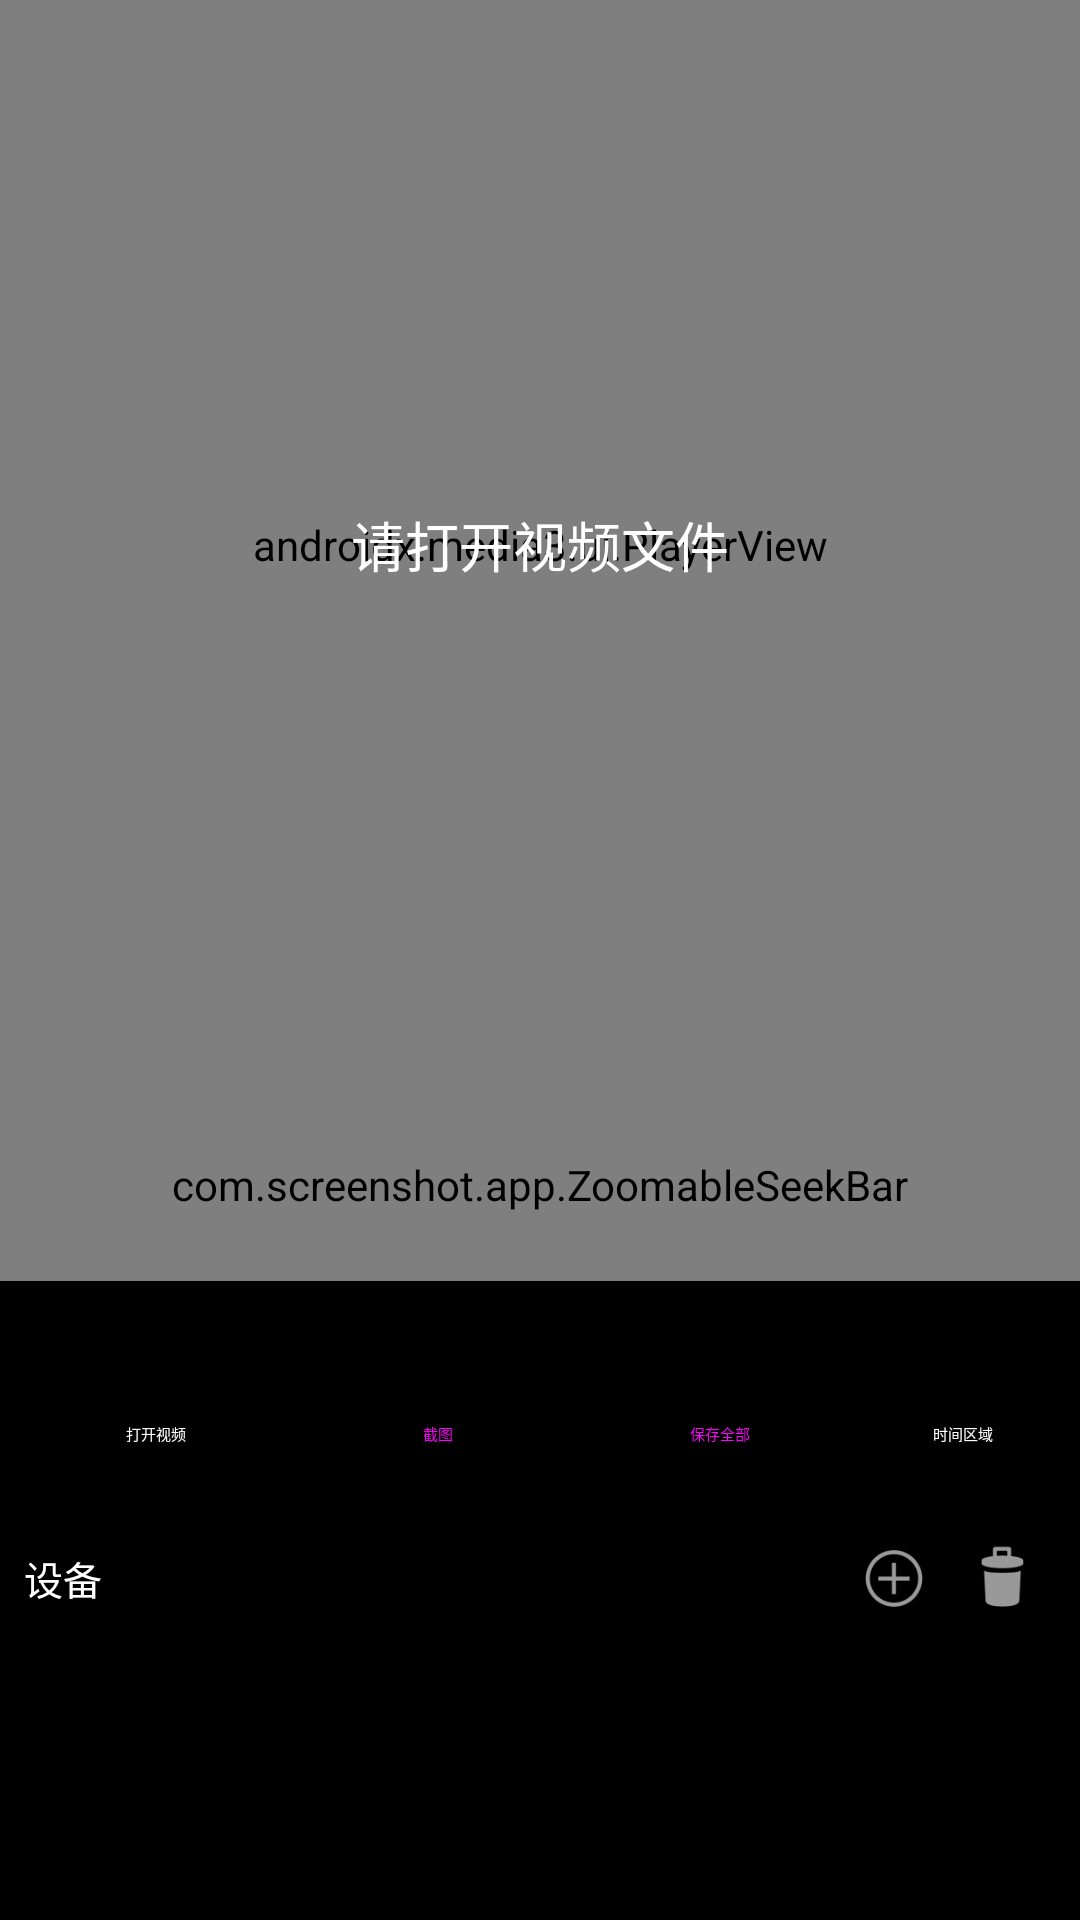

Screen size 1080*1920. Icon name, then its center in pixels as (x=x, y=y):
删除设备: (x=1002, y=1576)
添加设备: (x=894, y=1578)
